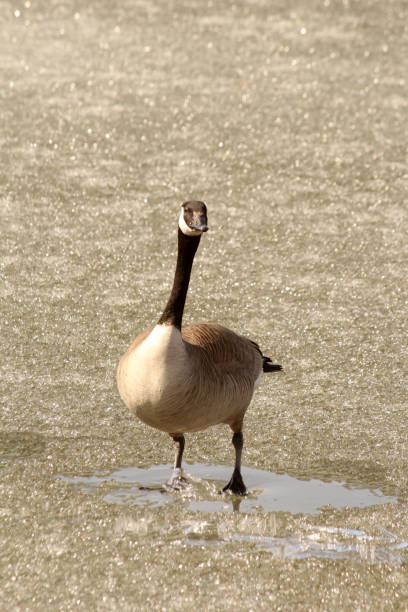goose: (110, 197, 286, 503)
